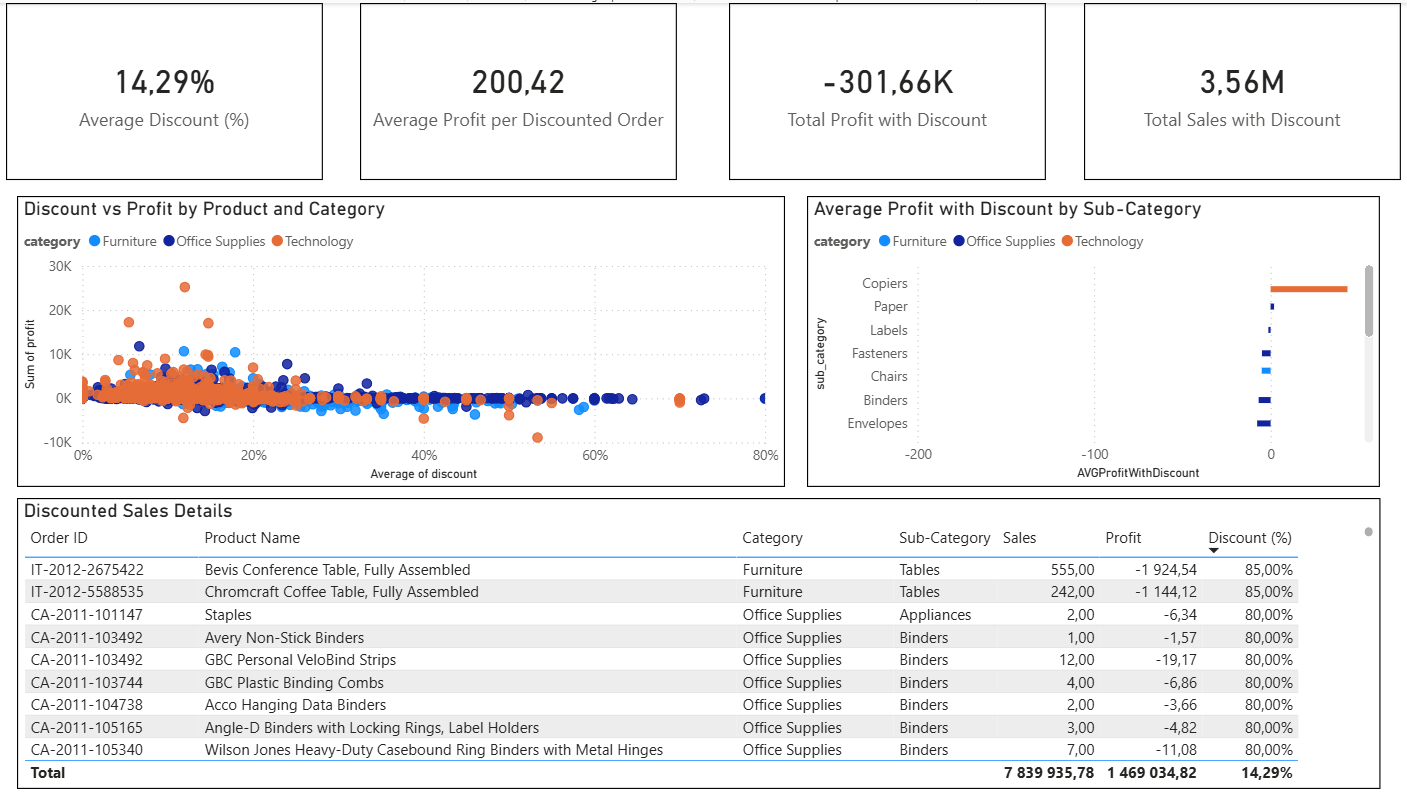

The dashboard page shown, as its layout file describes it:
{"tool":"powerbi","page":{"name":"Discount / Promotions Analysis","canvas":[1280,720],"ordinal":6},"visuals":[{"type":"card","fields":{"Values":["Avg(SuperStoreOrders.discount)"]},"box":[27.9,0,280.6,156.6],"z":0},{"type":"card","fields":{"Values":["SuperStoreOrders.AvgProfitPerDiscount"]},"box":[341.1,0,280.6,156.6],"z":1000},{"type":"card","fields":{"Values":["SuperStoreOrders.TotalSalesWithDiscount"]},"box":[668.8,0,280.6,156.6],"z":2000},{"type":"card","fields":{"Values":["SuperStoreOrders.TotalSalesWithDiscount"]},"box":[983.1,0,280.6,156.6],"z":3000},{"type":"scatterChart","title":"Discount vs Profit by Product and Category","fields":{"X":["Avg(SuperStoreOrders.discount)"],"Y":["Sum(SuperStoreOrders.profit)"],"Category":["SuperStoreOrders.product_name"],"Series":["SuperStoreOrders.category"]},"box":[37.5,171.1,681.3,258.5],"z":4000},{"type":"clusteredBarChart","title":"Average Profit with Discount by Sub-Category","fields":{"Category":["SuperStoreOrders.sub_category"],"Series":["SuperStoreOrders.category"],"Y":["SuperStoreOrders.AVGProfitWithDiscount"]},"box":[738,171.1,508.3,257.5],"z":5000},{"type":"tableEx","title":"Discounted Sales Details","fields":{"Values":["SuperStoreOrders.order_id","SuperStoreOrders.product_name","SuperStoreOrders.category","SuperStoreOrders.sub_category","Sum(SuperStoreOrders.sales)","Sum(SuperStoreOrders.profit)","Avg(SuperStoreOrders.discount)"]},"box":[37.5,439.2,1208.9,257.5],"z":6000}]}

Visuals, with their boxes in screenshot pixels (x1, y1, x2, y2), scaled from the page's 1280x720 canvas onto the 1407x801 screenshot:
card - Avg(SuperStoreOrders.discount): Rect(31, 0, 339, 174)
card - SuperStoreOrders.AvgProfitPerDiscount: Rect(375, 0, 683, 174)
card - SuperStoreOrders.TotalSalesWithDiscount: Rect(735, 0, 1044, 174)
card - SuperStoreOrders.TotalSalesWithDiscount: Rect(1081, 0, 1389, 174)
"Discount vs Profit by Product and Category" scatterChart: Rect(41, 190, 790, 478)
"Average Profit with Discount by Sub-Category" clusteredBarChart: Rect(811, 190, 1370, 477)
"Discounted Sales Details" tableEx: Rect(41, 489, 1370, 775)
